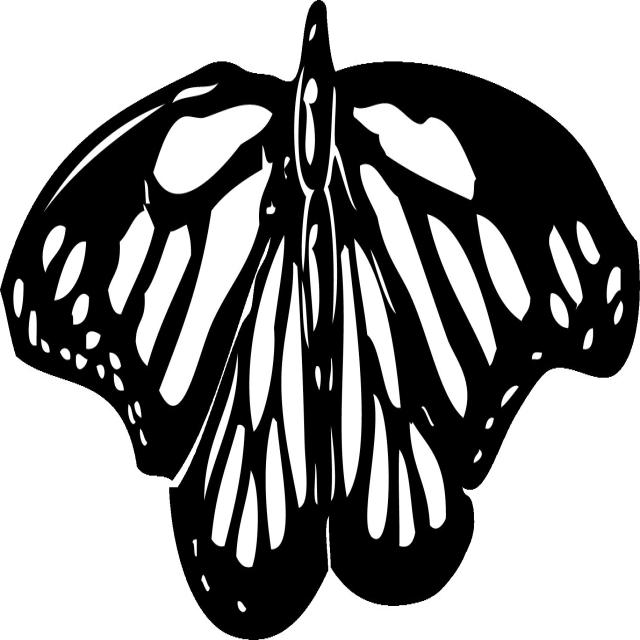butterfly: (1, 0, 640, 632)
